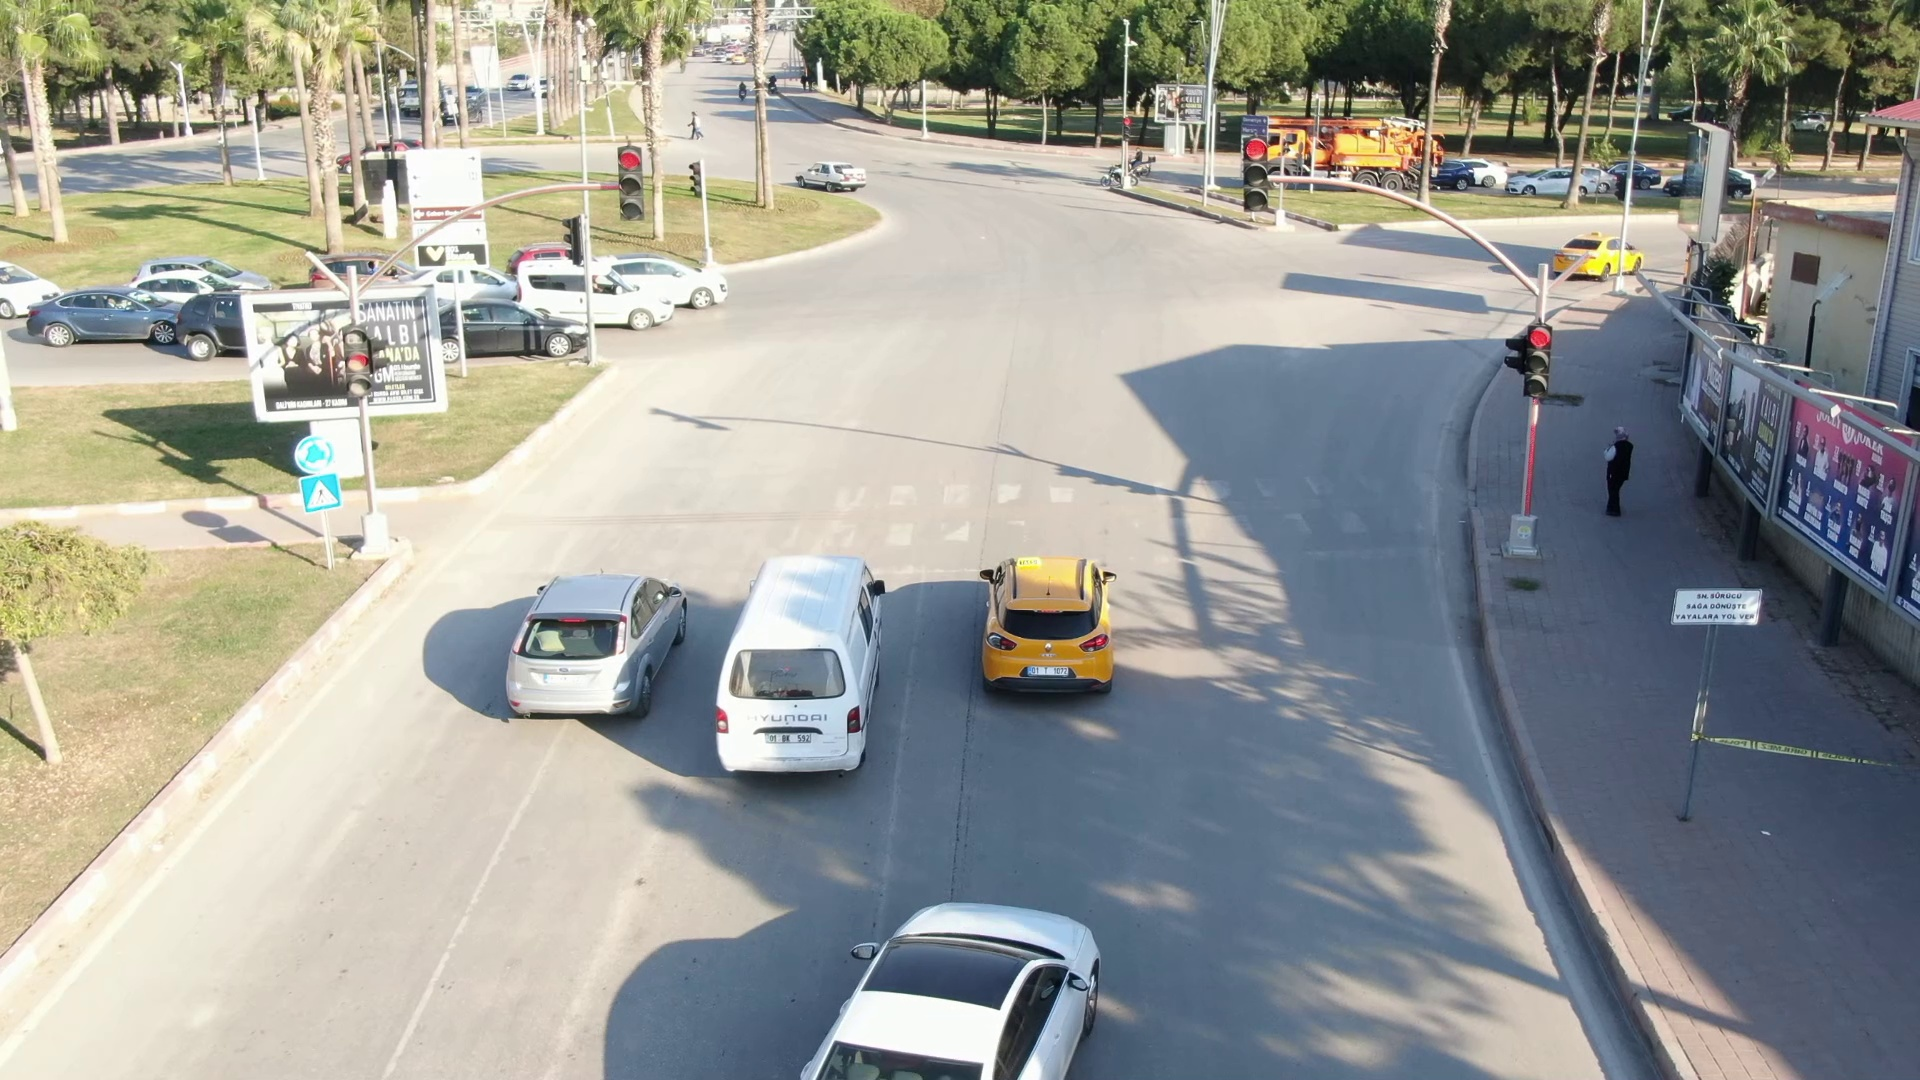car: (794, 894, 1121, 1080), (712, 557, 892, 784), (502, 565, 692, 719), (965, 549, 1127, 704), (512, 255, 678, 331), (414, 302, 584, 361), (600, 253, 737, 306), (1553, 229, 1647, 280), (800, 157, 866, 192)
person: (1588, 417, 1641, 523)
